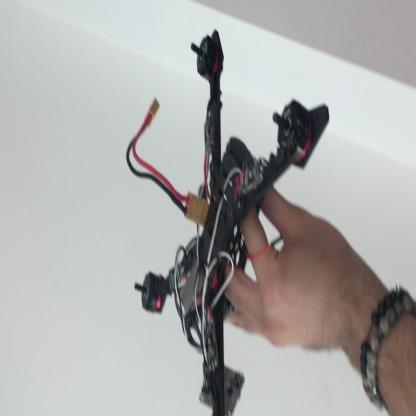drone: (132, 28, 331, 414)
